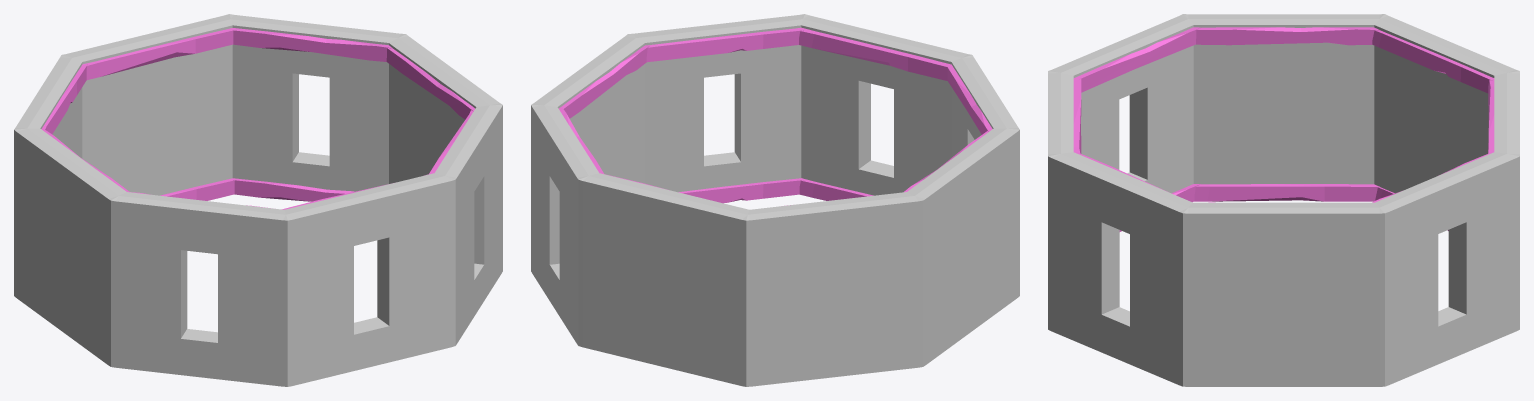
The model's file is SM_Tower_Round_7m_Windows_Cros_Fantasy_Base.fbx.
The picture shows the model from 3 angles, left to right: view 1: azimuth 30°, elevation 25°; view 2: azimuth 150°, elevation 25°; view 3: azimuth 270°, elevation 25°; orthographic projection. The views are drawn at different scales.
Visible parts, largest first — view 1: SM_Tower_Round_7m_Windows_Cros_Fantasy_Base; view 2: SM_Tower_Round_7m_Windows_Cros_Fantasy_Base; view 3: SM_Tower_Round_7m_Windows_Cros_Fantasy_Base.
Part boxes in pixels (bbox=[...]): SM_Tower_Round_7m_Windows_Cros_Fantasy_Base: bbox=[14, 14, 502, 386]; SM_Tower_Round_7m_Windows_Cros_Fantasy_Base: bbox=[531, 14, 1019, 386]; SM_Tower_Round_7m_Windows_Cros_Fantasy_Base: bbox=[1048, 14, 1519, 386].
Size of the model in its own units: 7.4 by 3.03 by 7.4.
